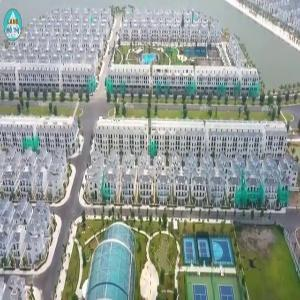drone: (228, 241, 277, 290)
